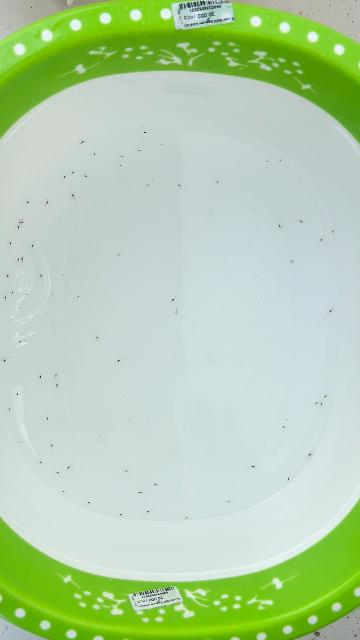benur: (9, 240, 13, 247), (38, 373, 42, 380), (308, 451, 313, 456), (141, 131, 147, 135), (30, 244, 34, 250), (250, 465, 256, 469), (21, 255, 24, 262), (120, 155, 125, 159), (93, 151, 97, 156), (81, 139, 86, 143), (26, 199, 30, 204), (3, 294, 7, 299), (15, 392, 19, 397), (66, 466, 70, 471), (280, 424, 285, 428), (170, 298, 174, 303), (56, 382, 59, 388), (179, 184, 183, 188), (72, 170, 76, 174), (57, 472, 61, 476), (88, 501, 92, 505), (329, 308, 333, 312), (320, 237, 324, 241), (290, 259, 294, 263), (300, 220, 304, 224), (279, 225, 283, 229), (64, 173, 67, 178), (71, 192, 74, 197), (47, 199, 50, 204), (21, 219, 24, 224), (17, 257, 20, 262), (11, 290, 14, 295), (3, 357, 6, 362), (51, 444, 54, 449), (39, 461, 44, 464), (115, 360, 120, 363), (116, 253, 121, 256), (138, 149, 142, 152), (119, 164, 123, 167), (146, 183, 149, 187), (83, 174, 87, 177), (39, 273, 42, 277), (153, 483, 157, 486), (287, 478, 290, 482), (315, 401, 319, 404), (324, 394, 328, 397), (55, 372, 58, 376), (96, 337, 99, 341), (7, 274, 9, 279), (119, 513, 124, 515), (137, 492, 142, 494), (175, 310, 177, 315), (216, 181, 219, 184), (62, 490, 65, 493), (146, 510, 149, 513), (184, 517, 187, 520), (23, 340, 27, 342), (19, 340, 21, 344), (9, 408, 11, 412), (332, 229, 334, 233), (266, 161, 269, 163), (19, 221, 21, 224), (17, 226, 19, 229), (25, 293, 27, 296), (47, 417, 49, 420), (227, 500, 230, 502), (125, 470, 128, 472), (78, 295, 80, 298), (143, 126, 145, 128), (160, 144, 162, 146), (19, 307, 21, 309), (286, 419, 288, 421), (321, 403, 322, 406), (279, 160, 281, 161)
